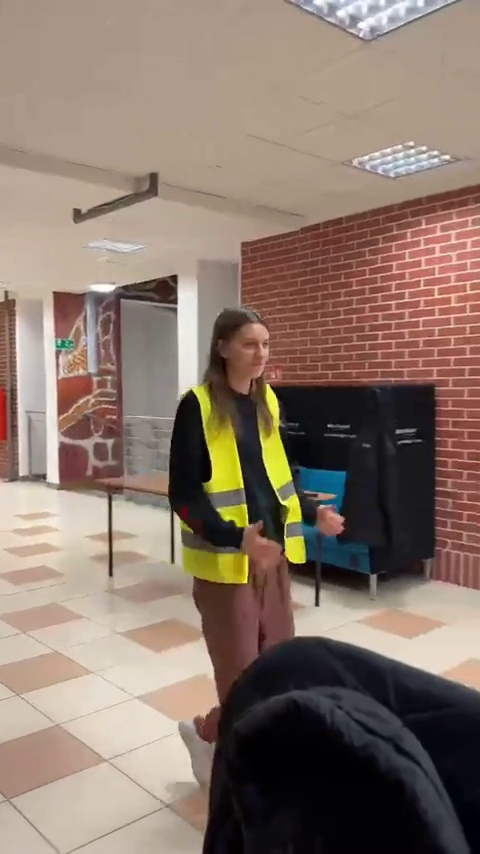vest: (168, 295, 347, 650)
